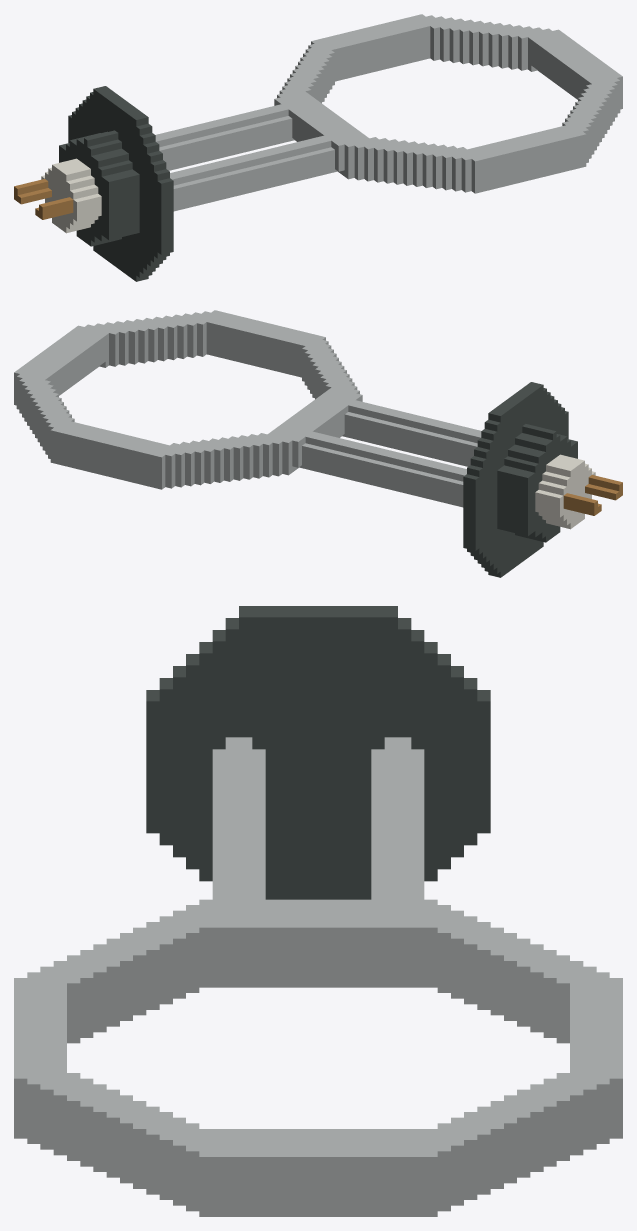
File: heating_element.glb
The picture shows the model from 3 angles, top to bottom: view 1: azimuth 30°, elevation 25°; view 2: azimuth 150°, elevation 25°; view 3: azimuth 270°, elevation 25°; orthographic projection. The views are drawn at different scales.
Parts seen in each view (by area): view 1: heating_element:compound; view 2: heating_element:compound; view 3: heating_element:compound.
Boxes of the visible parts, <box> form: heating_element:compound: <box>14,14,622,281</box>; heating_element:compound: <box>14,310,622,577</box>; heating_element:compound: <box>14,606,622,1216</box>.
Size of the model in its own units: 0.182 by 0.05 by 0.092.
